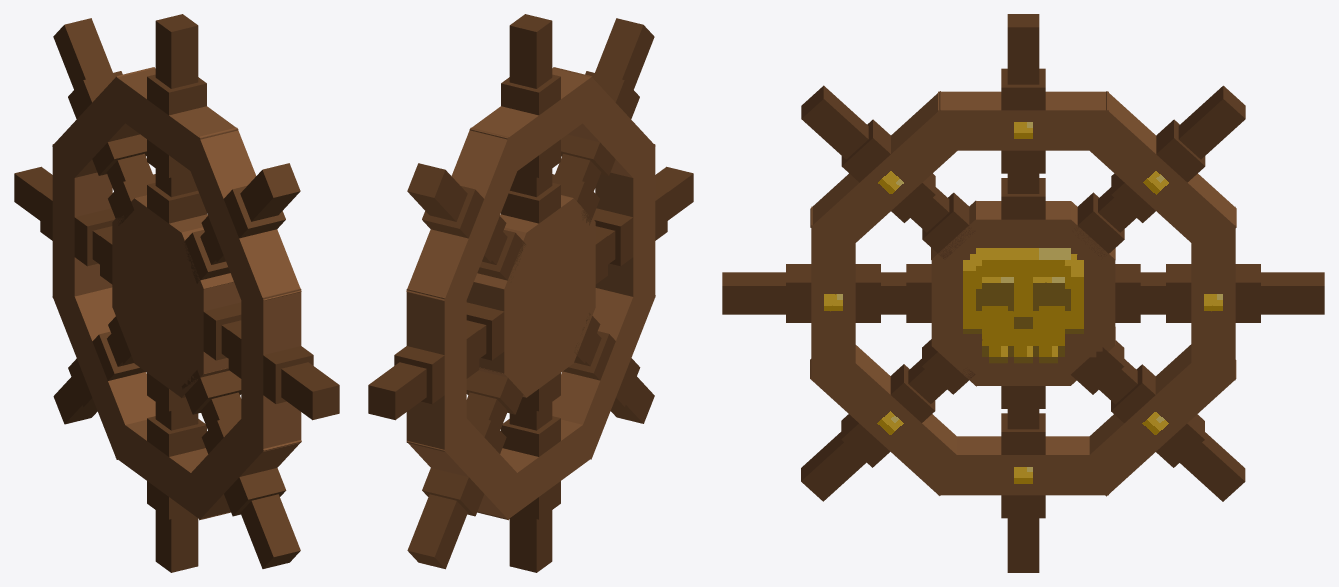
Rendered from item_woodenhelm.gltf.
The picture shows the model from 3 angles, left to right: view 1: azimuth 30°, elevation 25°; view 2: azimuth 150°, elevation 25°; view 3: azimuth 270°, elevation 25°; orthographic projection.
Visible parts, largest first — view 1: Wheel-Local, Handle1-Local, Handle4-Local, Handle2-Local, Handle3-Local, side2-Local; view 2: Wheel-Local, Handle2-Local, Handle3-Local, Handle1-Local, Handle4-Local, side4-Local; view 3: Wheel-Local, Handle1-Local, Handle2-Local, Handle3-Local, Handle4-Local, side4-Local, side2-Local, side1-Local.
Part boxes in pixels (<box>): Wheel-Local: <box>14,14,339,572</box>; Handle1-Local: <box>183,127,301,315</box>; Handle4-Local: <box>181,370,301,568</box>; Handle2-Local: <box>52,18,155,225</box>; Handle3-Local: <box>53,287,155,459</box>; side2-Local: <box>177,227,233,293</box>; Wheel-Local: <box>368,14,693,572</box>; Handle2-Local: <box>406,127,525,315</box>; Handle3-Local: <box>406,370,523,569</box>; Handle1-Local: <box>552,18,655,225</box>; Handle4-Local: <box>552,279,655,459</box>; side4-Local: <box>474,227,530,289</box>; Wheel-Local: <box>722,14,1324,572</box>; Handle1-Local: <box>801,85,975,259</box>; Handle2-Local: <box>1074,85,1245,256</box>; Handle3-Local: <box>1071,340,1245,501</box>; Handle4-Local: <box>801,339,975,501</box>; side4-Local: <box>1062,201,1115,267</box>; side2-Local: <box>931,200,983,267</box>; side1-Local: <box>932,338,984,386</box>.
Bounding box in the file's own units: 7 × 95 × 95.
9 materials, 9 textured.
